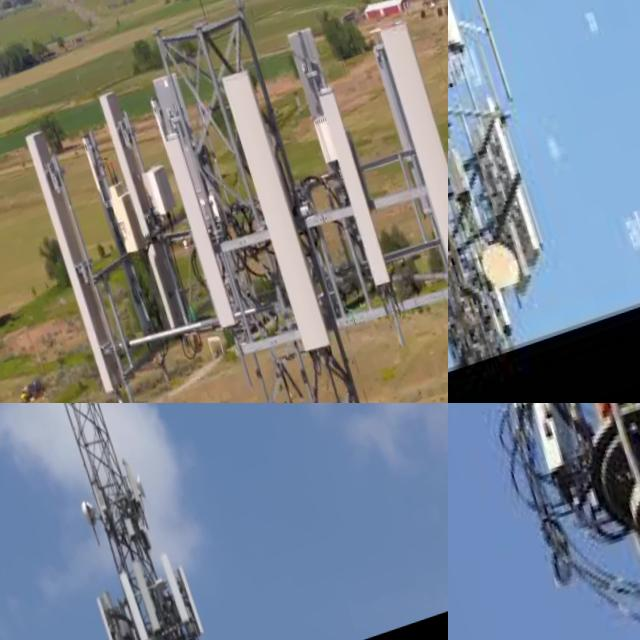GSM Antenna: (213, 62, 333, 376), (11, 115, 126, 403), (89, 83, 191, 342), (370, 23, 448, 331), (153, 125, 237, 355), (310, 85, 395, 305), (364, 38, 434, 233), (470, 92, 542, 277), (284, 28, 345, 161), (144, 543, 191, 640), (164, 557, 206, 640), (106, 567, 145, 640), (78, 585, 125, 640), (126, 572, 163, 640), (115, 460, 138, 516)
Microwave Antenna: (462, 231, 521, 319), (67, 494, 95, 544), (126, 479, 146, 516)
